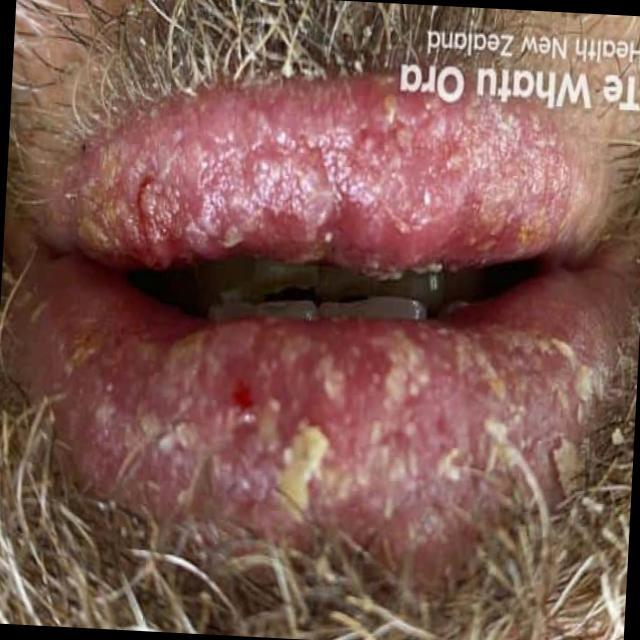Eczema: (45, 94, 588, 528)
